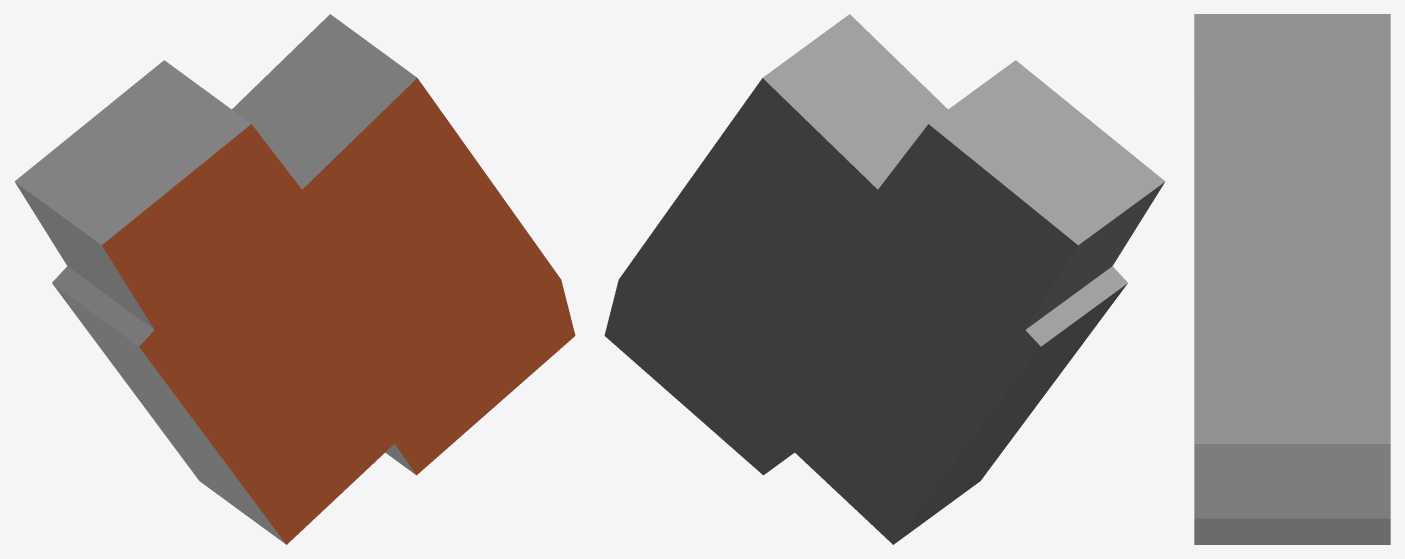
File: construction_1937_assumed_A_Casa_h6m.obj
3 renders of one model, left to right at view 1: azimuth 30°, elevation 25°; view 2: azimuth 150°, elevation 25°; view 3: azimuth 270°, elevation 25°, orthographic. The views are drawn at different scales.
Parts seen in each view (by area): view 1: construction_1937_assumed_A_Casa; view 2: construction_1937_assumed_A_Casa; view 3: construction_1937_assumed_A_Casa.
Boxes of the visible parts, <box> form: construction_1937_assumed_A_Casa: <box>14,14,575,544</box>; construction_1937_assumed_A_Casa: <box>604,14,1165,544</box>; construction_1937_assumed_A_Casa: <box>1194,14,1390,544</box>.
Bounding box in the file's own units: 18.81 × 16.51 × 6.
